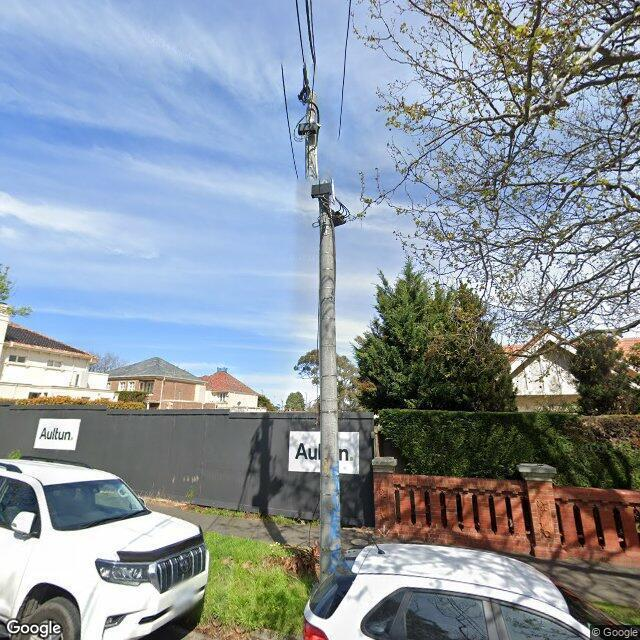timber-pole: (305, 90, 341, 579)
